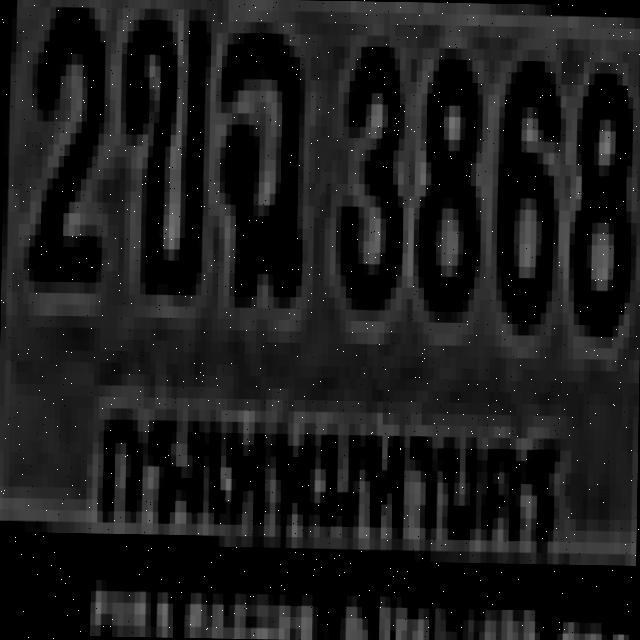11KhorKhai: (117, 0, 205, 283)
18ChorChing: (215, 21, 303, 297)
2: (27, 0, 99, 270)
3: (334, 34, 400, 298)
6: (490, 54, 556, 318)
8: (412, 47, 478, 311), (565, 62, 631, 326)
Bangkok: (82, 362, 574, 564)
